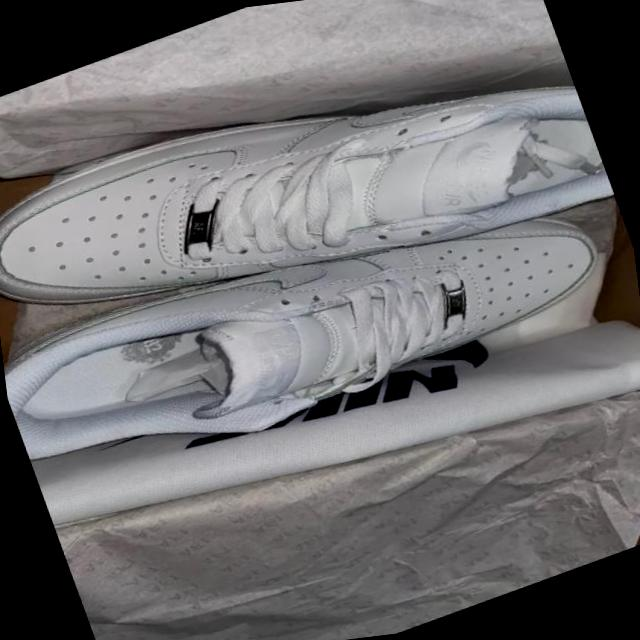nike_fake_airforce: (0, 0, 633, 412), (0, 145, 639, 512)
